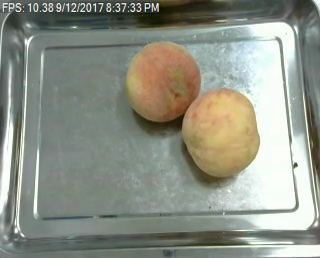Peach: (181, 89, 260, 176), (125, 40, 201, 122)
